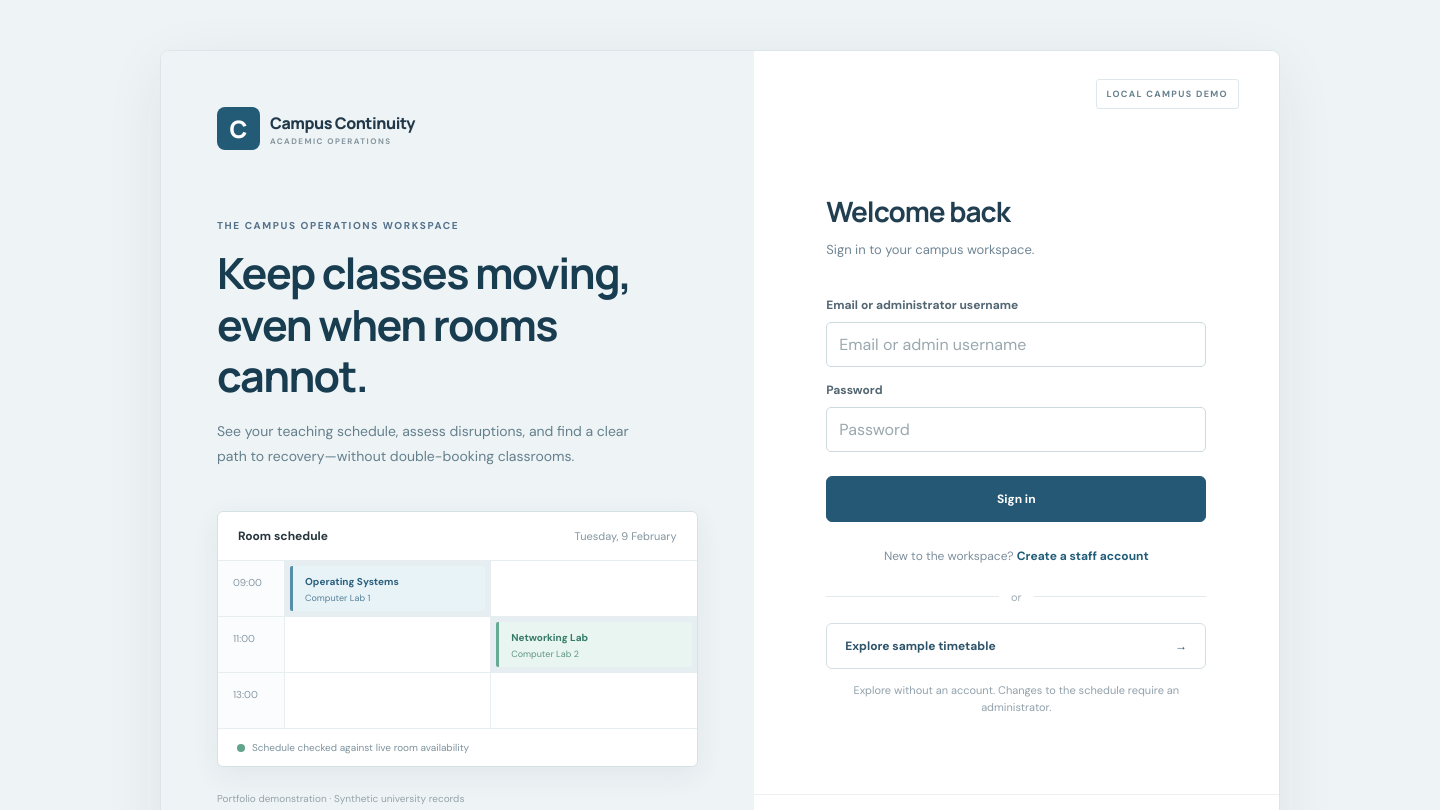
Scenario: redesigned campus portal › lets visitors inspect a real API-backed timetable without logging in
The image size is (1440, 810).
Click the button "Explore sample timetable →": coordinates (920, 646) [826,623,1206,669]
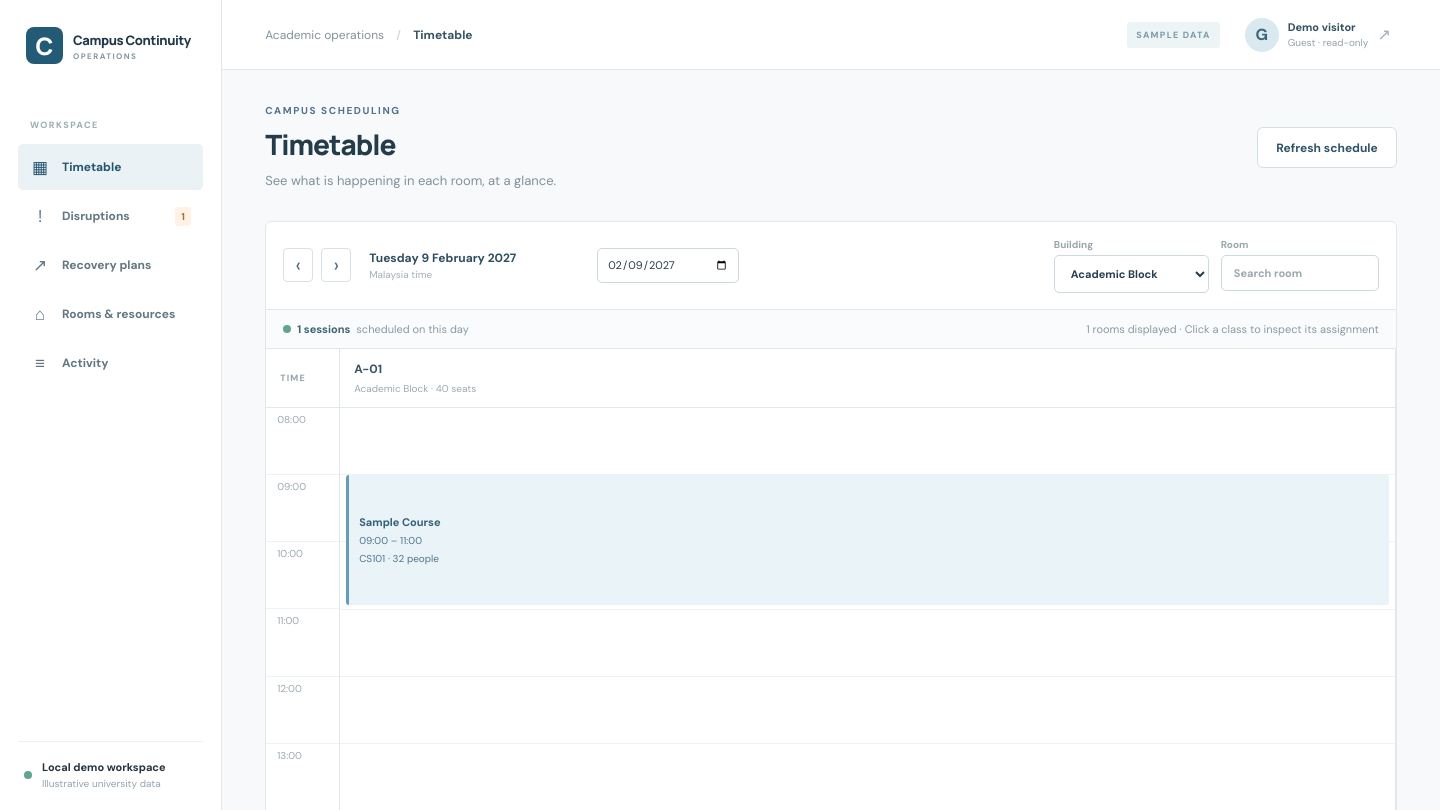
Result: the heading "Timetable" is shown at [265,125,396,163]
Result: the text "Sample Course" is shown at [359,515,441,529]
Click the button "Sample Course 09:00 – 11:00 CS101 · 32 people": coordinates (400, 522) [346,475,1389,605]
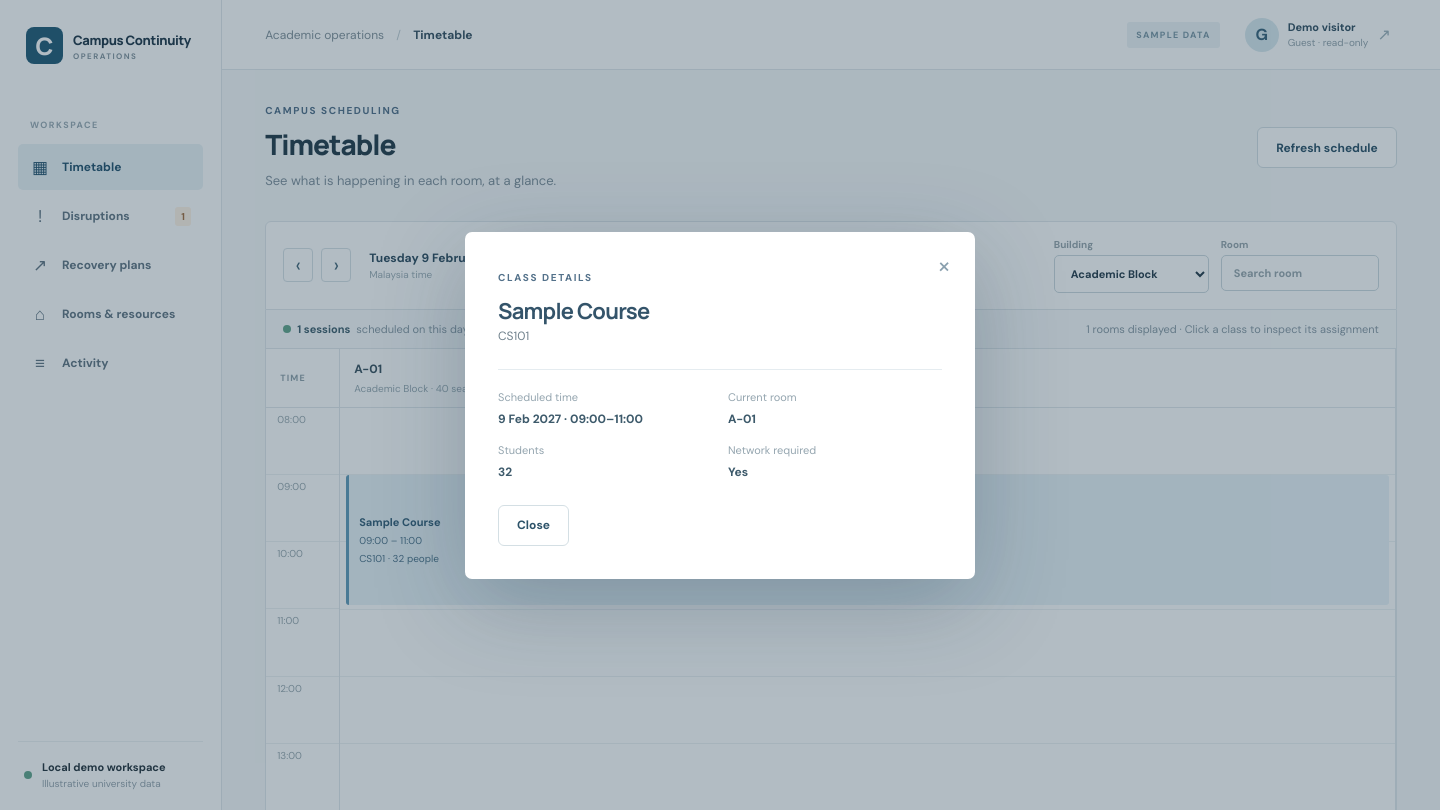
Result: the dialog "CLASS DETAILS" is shown at [465,232,975,578]
Result: the text "Current room" is shown at [728,390,797,404]
